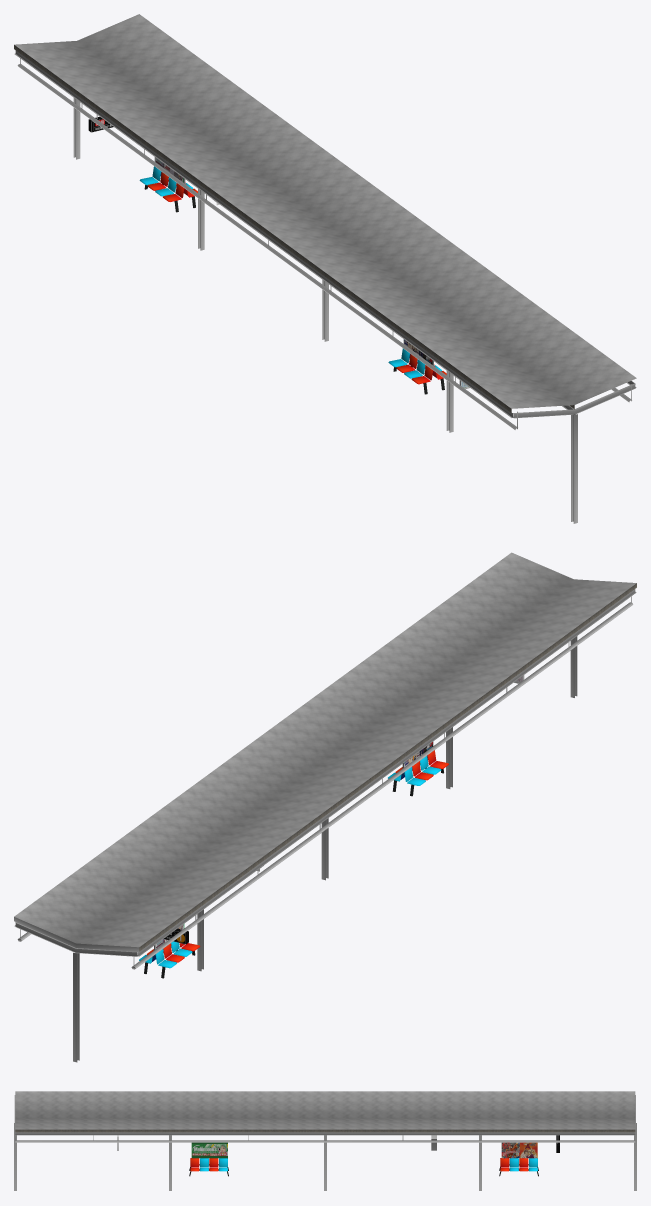
Rendered from AMB_HT_ST01.glb.
The picture shows the model from 3 angles, top to bottom: view 1: azimuth 30°, elevation 25°; view 2: azimuth 150°, elevation 25°; view 3: azimuth 270°, elevation 25°; orthographic projection. The views are drawn at different scales.
Visible parts, largest first — view 1: bone_02-14, obj22, obj24, bone_06; view 2: bone_02-14, obj22, obj24, bone_02; view 3: bone_02-14, obj22, obj24, bone_03, bone_05, bone_06, bone_02.
Part boxes in pixels (box(x1,y1,x2,y2)): bone_02-14: box(14, 14, 636, 430); obj22: box(388, 339, 446, 394); obj24: box(139, 157, 197, 212); bone_06: box(517, 384, 631, 523); bone_02-14: box(14, 552, 636, 969); obj22: box(388, 742, 448, 796); obj24: box(139, 924, 200, 978); bone_02: box(20, 929, 134, 1062); bone_02-14: box(14, 1091, 635, 1142); obj22: box(189, 1142, 228, 1176); obj24: box(499, 1142, 538, 1176); bone_03: box(431, 1135, 481, 1190); bone_05: box(117, 1135, 171, 1190); bone_06: box(14, 1123, 16, 1190); bone_02: box(634, 1123, 636, 1190).
Size of the model in its own units: 14.55 by 14.31 by 100.
Materials: 31 (30 with a texture image).
